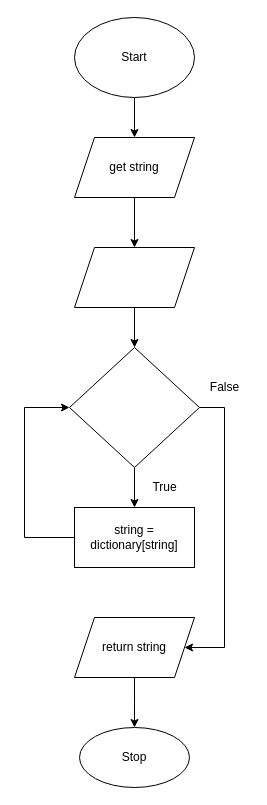
Image size: 267x805. Some labels were removed from this diagram. Here are the shapes that lost their labels. From the top down, the centre of each, then its label:
At pixel 134 277: "get dictionary".
At pixel 134 407: "if string is dintionary.keys():".
